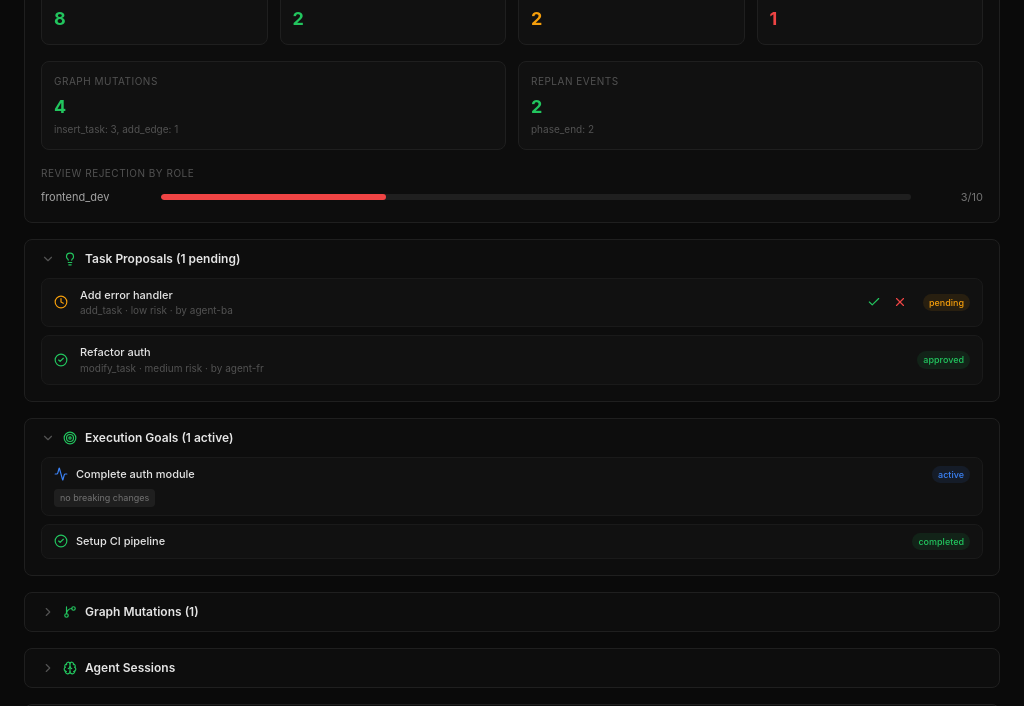
AgenticPanel › shows empty state for sessions
(page scrolled)
Click the button "Agent Sessions" at (130, 668), box [25,649,999,687]
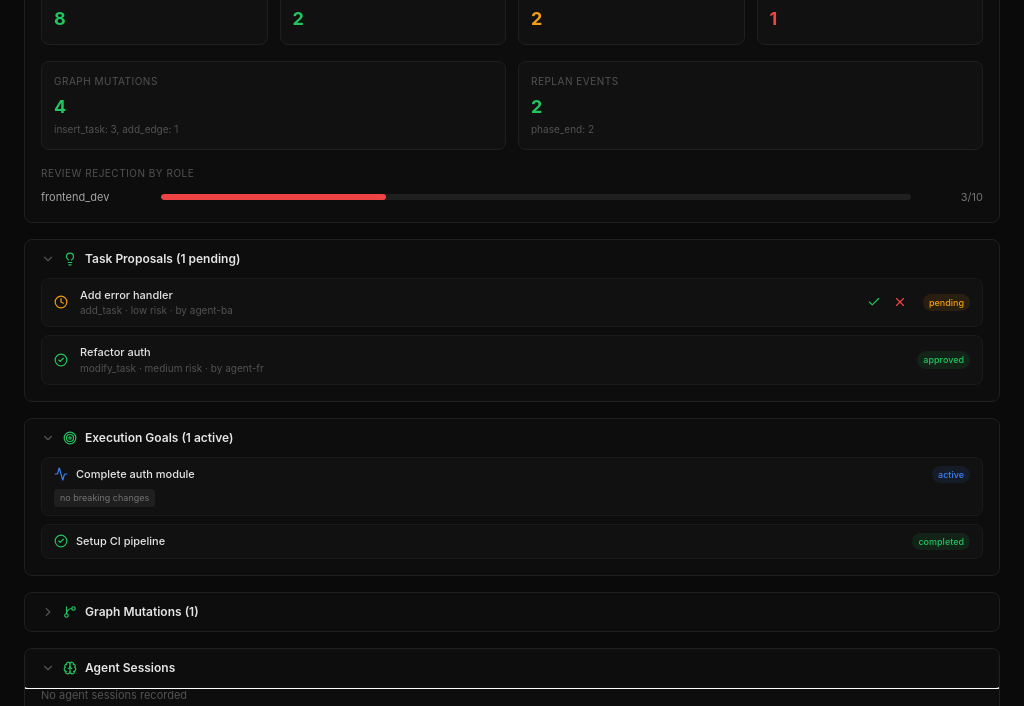
Result: the text "No agent sessions recorded" is shown at [41,688,187,702]
